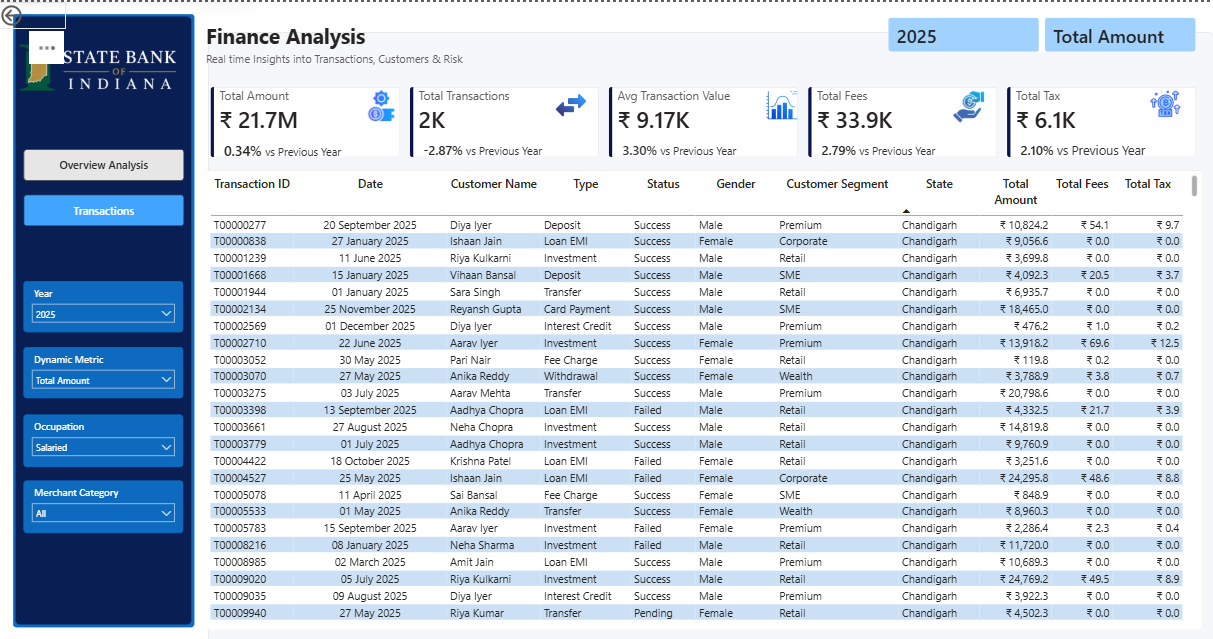

The page's visual inventory and layout, read from the dashboard file:
{"tool":"powerbi","page":{"name":"Transactions","canvas":[1800,950],"ordinal":1},"visuals":[{"type":"cardVisual","fields":{"Data":["finance_transactions.Total Amount","finance_transactions.Total Transactions","finance_transactions.Avg Transaction Value","finance_transactions.Total Fees","finance_transactions.Total Tax"]},"box":[307.9,120.9,1473.2,116.3],"z":0,"group":"g1"},{"type":"shape","box":[1395.6,248.6,385.4,301],"z":0},{"type":"image","box":[1133.3,130,56.1,47.9],"z":1000,"group":"g1"},{"type":"shape","box":[946.4,248.6,433.3,301],"z":1000},{"type":"shape","box":[21.3,18.6,268.4,908.9],"z":2000},{"type":"image","box":[1696.9,125.5,63.1,52.4],"z":2000,"group":"g1"},{"type":"shape","box":[310.4,43.7,1490.6,907],"z":3000},{"type":"image","box":[541.7,132.3,51.4,45.6],"z":3000,"group":"g1"},{"type":"cardVisual","fields":{"Data":["customers.Dashboard Title"]},"box":[290.7,19.7,421.8,83.1],"z":4000},{"type":"image","box":[1411.6,132.3,49.1,47.9],"z":4000,"group":"g1"},{"type":"image","box":[822.3,130,53.8,47.9],"z":5000,"group":"g1"},{"type":"image","box":[742.1,668.3,134.1,122.9],"z":5000},{"type":"image","box":[0,0,287.3,203],"z":6000},{"type":"shape","box":[308.2,249.2,1473.1,679.7],"z":7000},{"type":"group","id":"g1","title":"Group 1","box":[307.9,120.9,1473.2,116.3],"z":8000},{"type":"cardVisual","fields":{"Data":["calendar.selected Year","calendar.Selected Dynamic measure"]},"box":[1313.5,18.2,467.5,61.6],"z":9000},{"type":"tableEx","fields":{"Values":["finance_transactions.transaction_id","finance_transactions.transaction_date","customers.full_name","finance_transactions.transaction_type","finance_transactions.transaction_status","customers.gender","customers.customer_segment","customers.state","finance_transactions.Total Amount","finance_transactions.Total Fees","finance_transactions.Total Tax"]},"box":[308.2,251.3,1473.1,677.5],"z":10000},{"type":"actionButton","box":[0,0,100,40],"z":11000},{"type":"slicer","fields":{"Values":["calendar.year"]},"box":[38,413.5,236.9,76],"z":12000},{"type":"slicer","fields":{"Values":["Dynamic  Metric.Dynamic  Metric"]},"box":[38,511.8,236.9,76],"z":13000},{"type":"slicer","fields":{"Values":["customers.occupation"]},"box":[38,610.2,236.9,78.2],"z":14000},{"type":"slicer","fields":{"Values":["finance_transactions.merchant_category"]},"box":[38,708.5,236.9,78.2],"z":15000},{"type":"pageNavigator","box":[38,201.2,236.9,116.2],"z":16000}]}

Visuals, with their boxes on the page's 1800x950 design canvas (x1, y1, x2, y2). These are canvas units, not pixel positions in the 1213x639 screenshot, which may show the page scaled, cropped or inside an application window:
cardVisual - finance_transactions.Total Amount x finance_transactions.Total Transactions: x1=308 y1=121 x2=1781 y2=237
shape: x1=1396 y1=249 x2=1781 y2=550
image: x1=1133 y1=130 x2=1189 y2=178
shape: x1=946 y1=249 x2=1380 y2=550
shape: x1=21 y1=19 x2=290 y2=928
image: x1=1697 y1=126 x2=1760 y2=178
shape: x1=310 y1=44 x2=1801 y2=951
image: x1=542 y1=132 x2=593 y2=178
cardVisual - customers.Dashboard Title: x1=291 y1=20 x2=712 y2=103
image: x1=1412 y1=132 x2=1461 y2=180
image: x1=822 y1=130 x2=876 y2=178
image: x1=742 y1=668 x2=876 y2=791
image: x1=0 y1=0 x2=287 y2=203
shape: x1=308 y1=249 x2=1781 y2=929
"Group 1" group: x1=308 y1=121 x2=1781 y2=237
cardVisual - calendar.selected Year x calendar.Selected Dynamic measure: x1=1314 y1=18 x2=1781 y2=80
tableEx - finance_transactions.transaction_id x finance_transactions.transaction_date: x1=308 y1=251 x2=1781 y2=929
actionButton: x1=0 y1=0 x2=100 y2=40
slicer - calendar.year: x1=38 y1=414 x2=275 y2=490
slicer - Dynamic  Metric.Dynamic  Metric: x1=38 y1=512 x2=275 y2=588
slicer - customers.occupation: x1=38 y1=610 x2=275 y2=688
slicer - finance_transactions.merchant_category: x1=38 y1=708 x2=275 y2=787
pageNavigator: x1=38 y1=201 x2=275 y2=317
